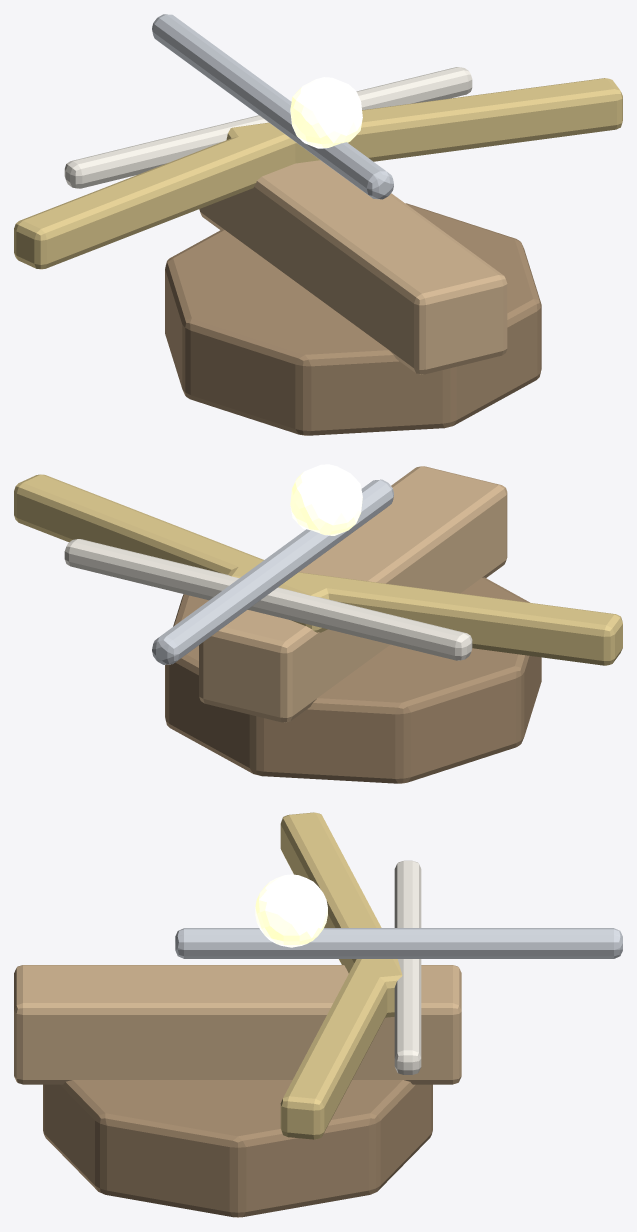
File: turret_crossbow.glb
The picture shows the model from 3 angles, top to bottom: view 1: azimuth 30°, elevation 25°; view 2: azimuth 150°, elevation 25°; view 3: azimuth 270°, elevation 25°; orthographic projection.
Visible parts, largest first — view 1: turret_crossbow; view 2: turret_crossbow; view 3: turret_crossbow.
Boxes of the visible parts, bbox=[...] form: turret_crossbow: bbox=[14, 14, 622, 435]; turret_crossbow: bbox=[14, 464, 622, 783]; turret_crossbow: bbox=[14, 812, 622, 1217].
Size of the model in its own units: 0.7755 by 0.323 by 0.68.
